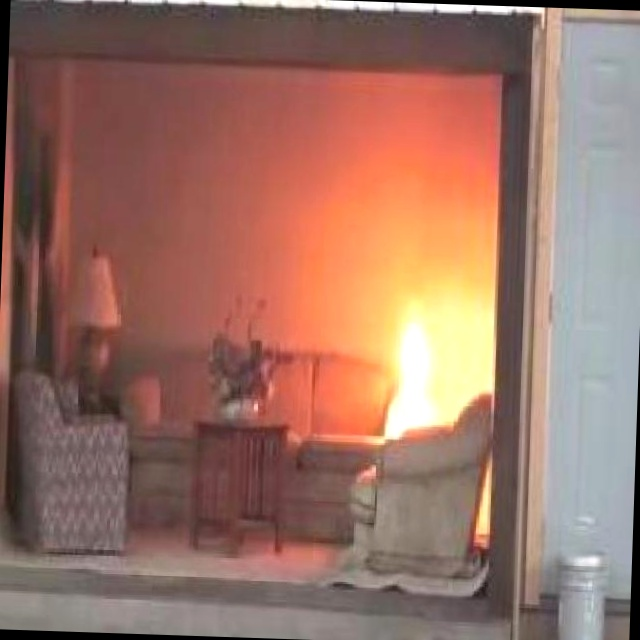fire: (371, 282, 451, 441)
